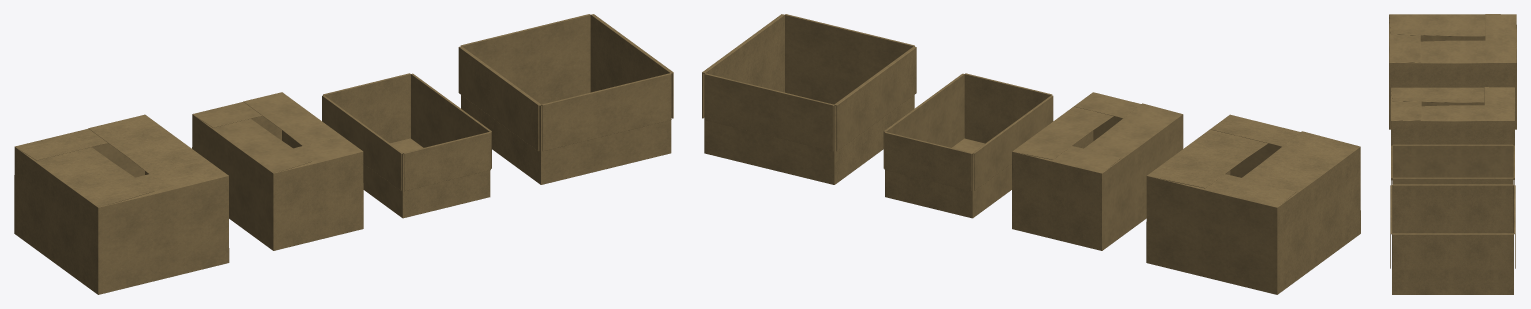
Rendered from Cardboard Box.fbx.
3 views of the same model, side by side, from view 1: azimuth 30°, elevation 25°; view 2: azimuth 150°, elevation 25°; view 3: azimuth 270°, elevation 25° (orthographic). The views are drawn at different scales.
Parts seen in each view (by area): view 1: Cardboard_Box; view 2: Cardboard_Box; view 3: Cardboard_Box.
Boxes of the visible parts, bbox=[...] form: Cardboard_Box: bbox=[14, 14, 673, 294]; Cardboard_Box: bbox=[702, 14, 1360, 294]; Cardboard_Box: bbox=[1389, 14, 1516, 294].
Bounding box in the file's own units: 228 × 33.72 × 57.29.
1 material, 1 textured.
